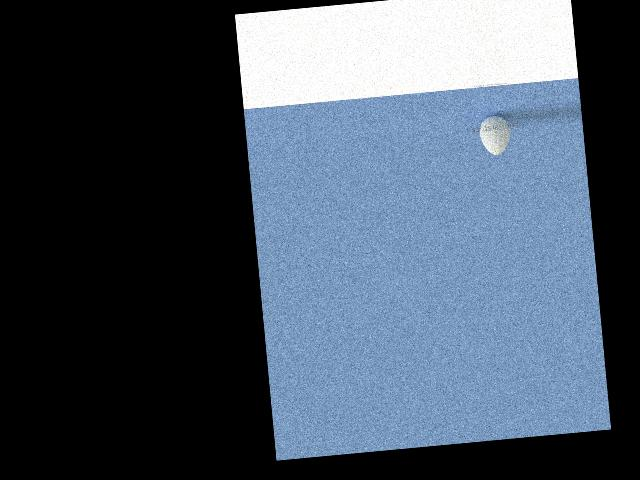egg: (478, 114, 511, 156)
